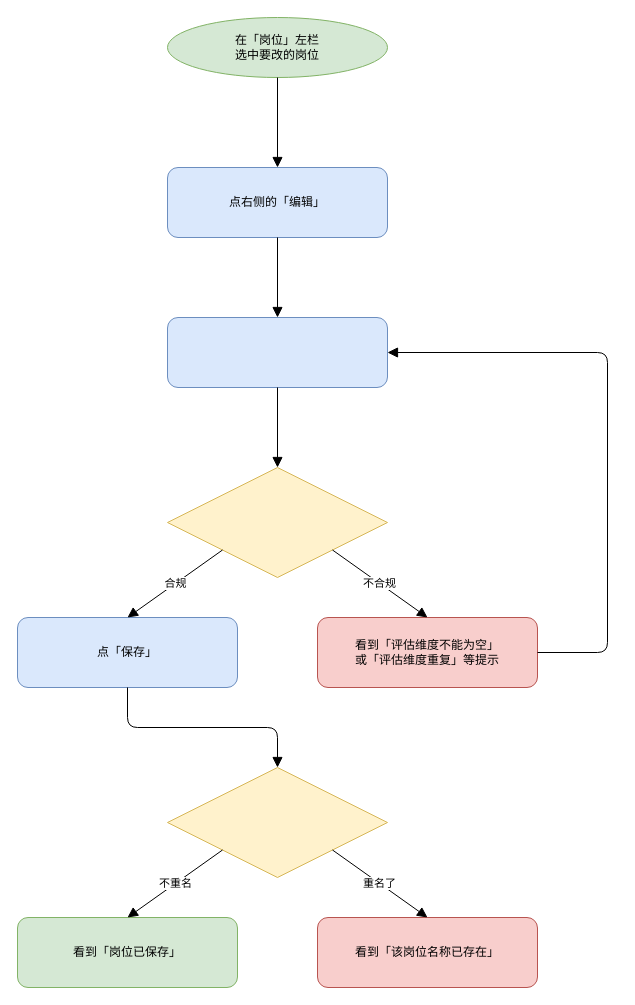
This 635x1005 diagram has some shape labels left out. The centre of each missing label's shape, as x and y in pixels:
"填得合规吗？" belongs at point 277,522.
"改「岗位名称」 「岗位描述（JD）」「评估维度」" belongs at point 277,352.
"新名字跟别的岗位 重名了吗？" belongs at point 277,822.
